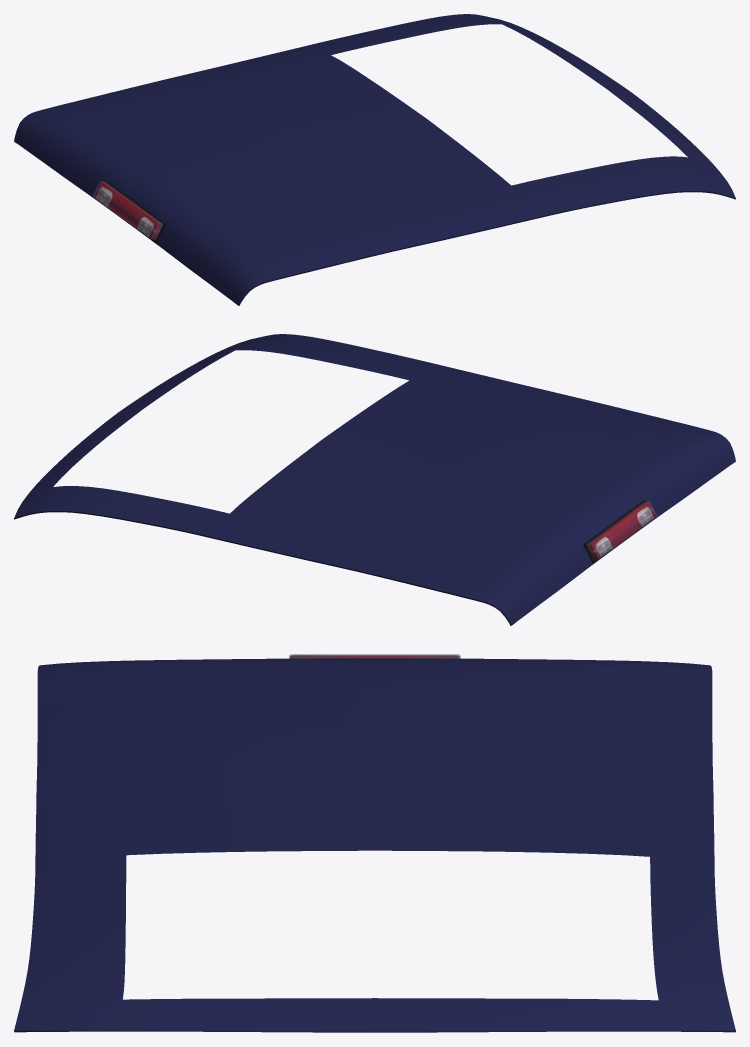
3 renders of one model, top to bottom at view 1: azimuth 30°, elevation 25°; view 2: azimuth 150°, elevation 25°; view 3: azimuth 270°, elevation 25°, orthographic. The views are drawn at different scales.
Parts seen in each view (by area): view 1: U803_3A_341B_C_U803_3A_341B_C_1_DaS, U803_3A_341B_C_U803_3A_341B_C_3_DTaSI, U803_3A_341B_C_U803_3A_341B_C_4_N, U803_3A_341B_C_U803_3A_341B_C_1_DaS_E; view 2: U803_3A_341B_C_U803_3A_341B_C_1_DaS, U803_3A_341B_C_U803_3A_341B_C_3_DTaSI, U803_3A_341B_C_U803_3A_341B_C_4_N, U803_3A_341B_C_U803_3A_341B_C_1_DaS_E; view 3: U803_3A_341B_C_U803_3A_341B_C_1_DaS, U803_3A_341B_C_U803_3A_341B_C_1_DaS_E, U803_3A_341B_C_U803_3A_341B_C_3_DTaSI, U803_3A_341B_C_U803_3A_341B_C_4_N.
Part boxes in pixels (bbox=[...]): U803_3A_341B_C_U803_3A_341B_C_1_DaS: bbox=[14, 14, 735, 305]; U803_3A_341B_C_U803_3A_341B_C_3_DTaSI: bbox=[93, 181, 162, 240]; U803_3A_341B_C_U803_3A_341B_C_4_N: bbox=[94, 181, 162, 240]; U803_3A_341B_C_U803_3A_341B_C_1_DaS_E: bbox=[238, 191, 735, 305]; U803_3A_341B_C_U803_3A_341B_C_1_DaS: bbox=[14, 334, 735, 625]; U803_3A_341B_C_U803_3A_341B_C_3_DTaSI: bbox=[587, 501, 656, 560]; U803_3A_341B_C_U803_3A_341B_C_4_N: bbox=[587, 501, 655, 560]; U803_3A_341B_C_U803_3A_341B_C_1_DaS_E: bbox=[14, 511, 511, 625]; U803_3A_341B_C_U803_3A_341B_C_1_DaS: bbox=[14, 658, 735, 1031]; U803_3A_341B_C_U803_3A_341B_C_1_DaS_E: bbox=[14, 1030, 735, 1032]; U803_3A_341B_C_U803_3A_341B_C_3_DTaSI: bbox=[289, 654, 460, 658]; U803_3A_341B_C_U803_3A_341B_C_4_N: bbox=[290, 655, 459, 658].
Bounding box in the file's own units: 134 × 9.11 × 113.
